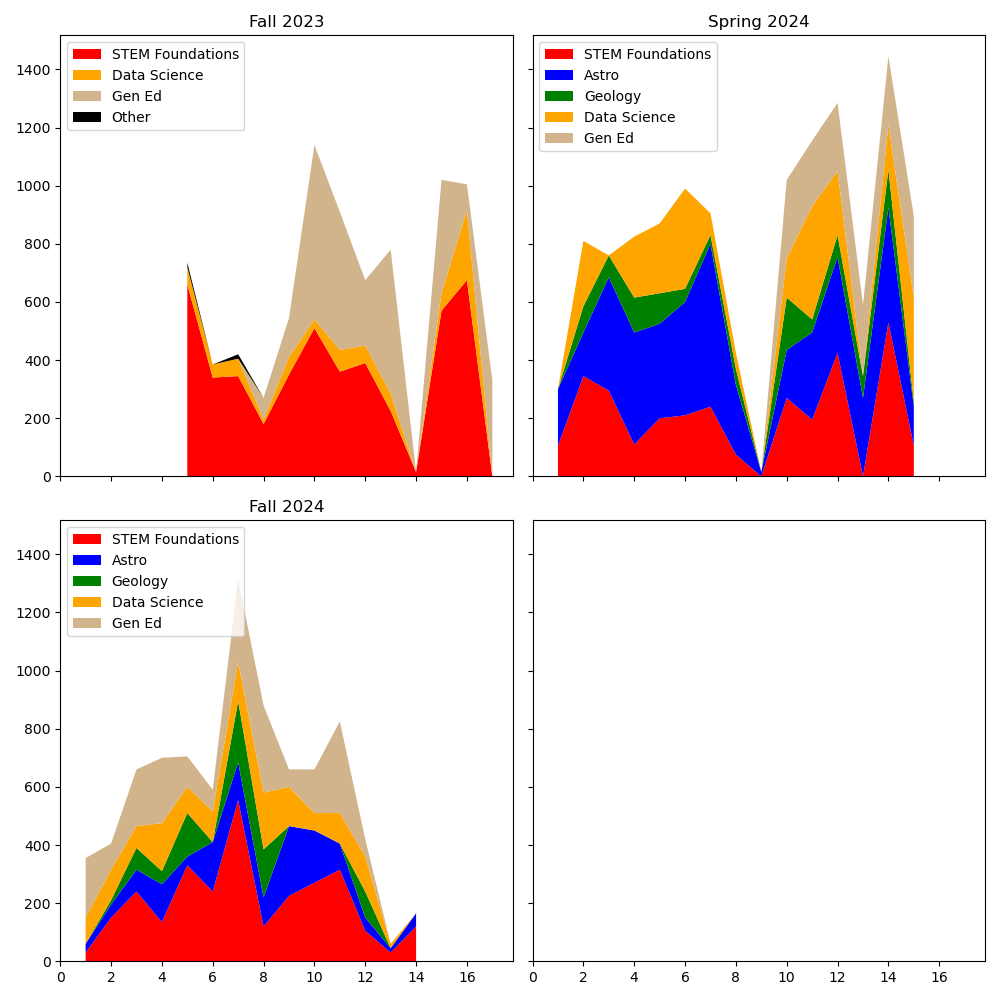

The dashboard page shown, as its layout file describes it:
{"tool":"tableau","page":{"name":"By Week","canvas":[1000,1000],"units":"permille","ordinal":1},"visuals":[{"type":"worksheet","title":"Studytime by Week","mark":"Automatic","rows":["duration"],"cols":["week"],"box":[6.2,10.2,864.7,489.8]},{"type":"legend","title":"Studytime by Week","param":"[federated.0zza1qe03v407817gxwvd0b12inj].[none:term:nk]","box":[870.9,10.2,123,135.2]},{"type":"worksheet","title":"Tasks by Week","mark":"Automatic","rows":["start_date"],"cols":["week"],"box":[6.2,500,864.7,489.8]}]}

Visuals, with their boxes on the dashboard's canvas, which has no fixed pixel size, in thousandths of its width and height (x1, y1, x2, y2). These are canvas units, not pixel positions in the 1000x1000 screenshot, which may show the page scaled, cropped or inside an application window:
"Studytime by Week" worksheet: region(6, 10, 871, 500)
"Studytime by Week" legend: region(871, 10, 994, 145)
"Tasks by Week" worksheet: region(6, 500, 871, 990)
